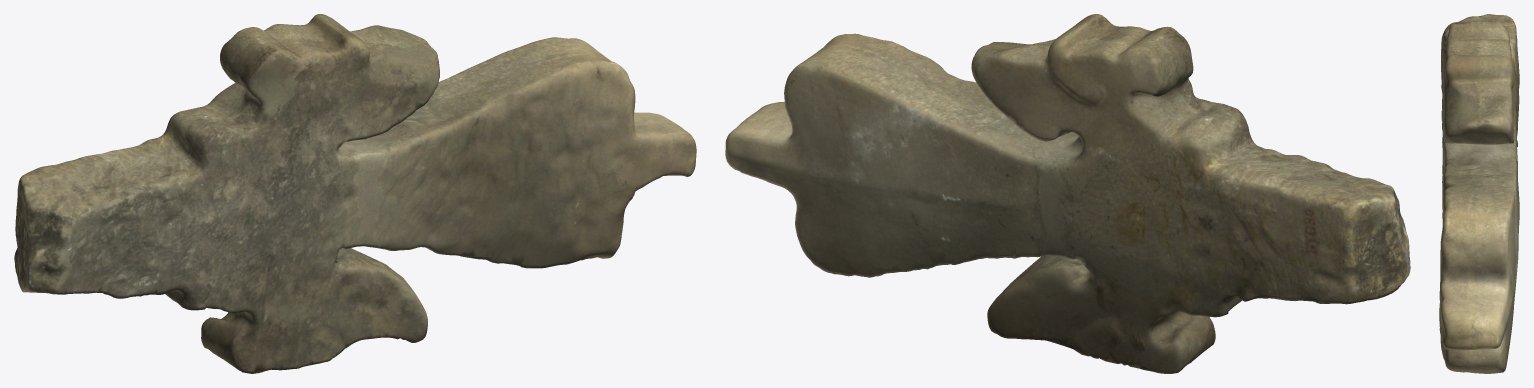
Rendered from 25_vattrangtri_final.glb.
3 views of the same model, side by side, from view 1: azimuth 30°, elevation 25°; view 2: azimuth 150°, elevation 25°; view 3: azimuth 270°, elevation 25° (orthographic). The views are drawn at different scales.
Size of the model in its own units: 0.6369 by 0.2973 by 0.0864.
Materials: 1 (1 with a texture image).
